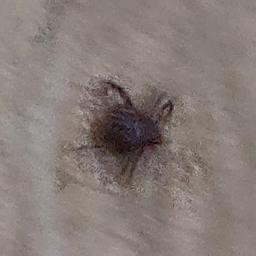Rhipicephalus sanguineus: (70, 80, 172, 179)
